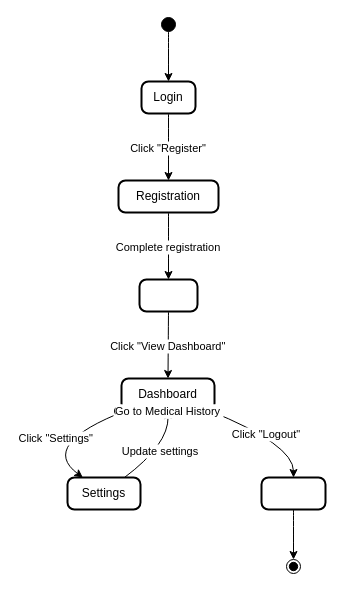
Image size: 343x591. Some labels were removed from this diagram. Each missing label, with the centre of its shape:
Home: (169,295)
Logout: (294,493)
